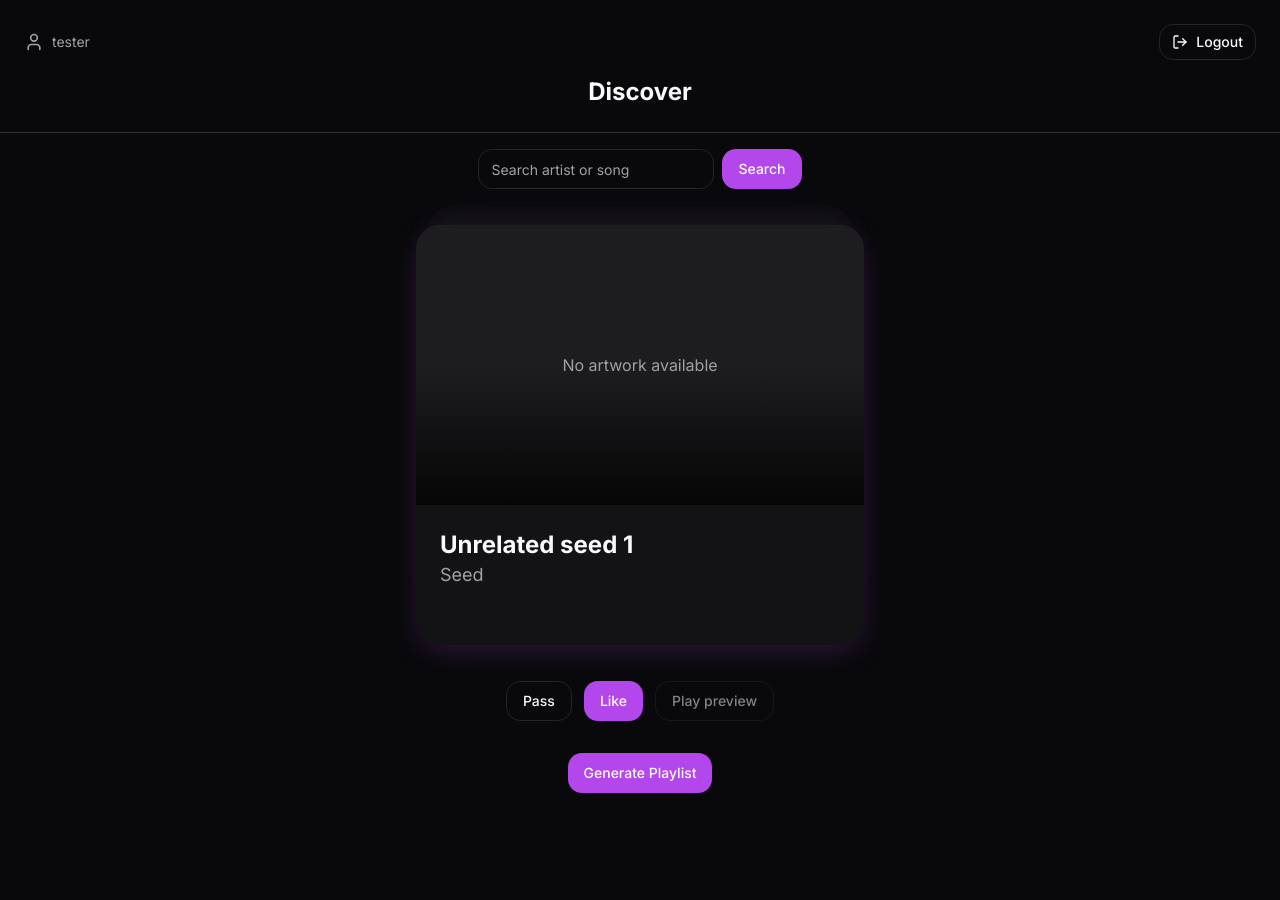
Scenario: shows catalog matches rather than fetching an unrelated general feed
Type "Matching" into the field named "Search music".
click(596, 169); type("Matching")  # box [478,149,714,189]
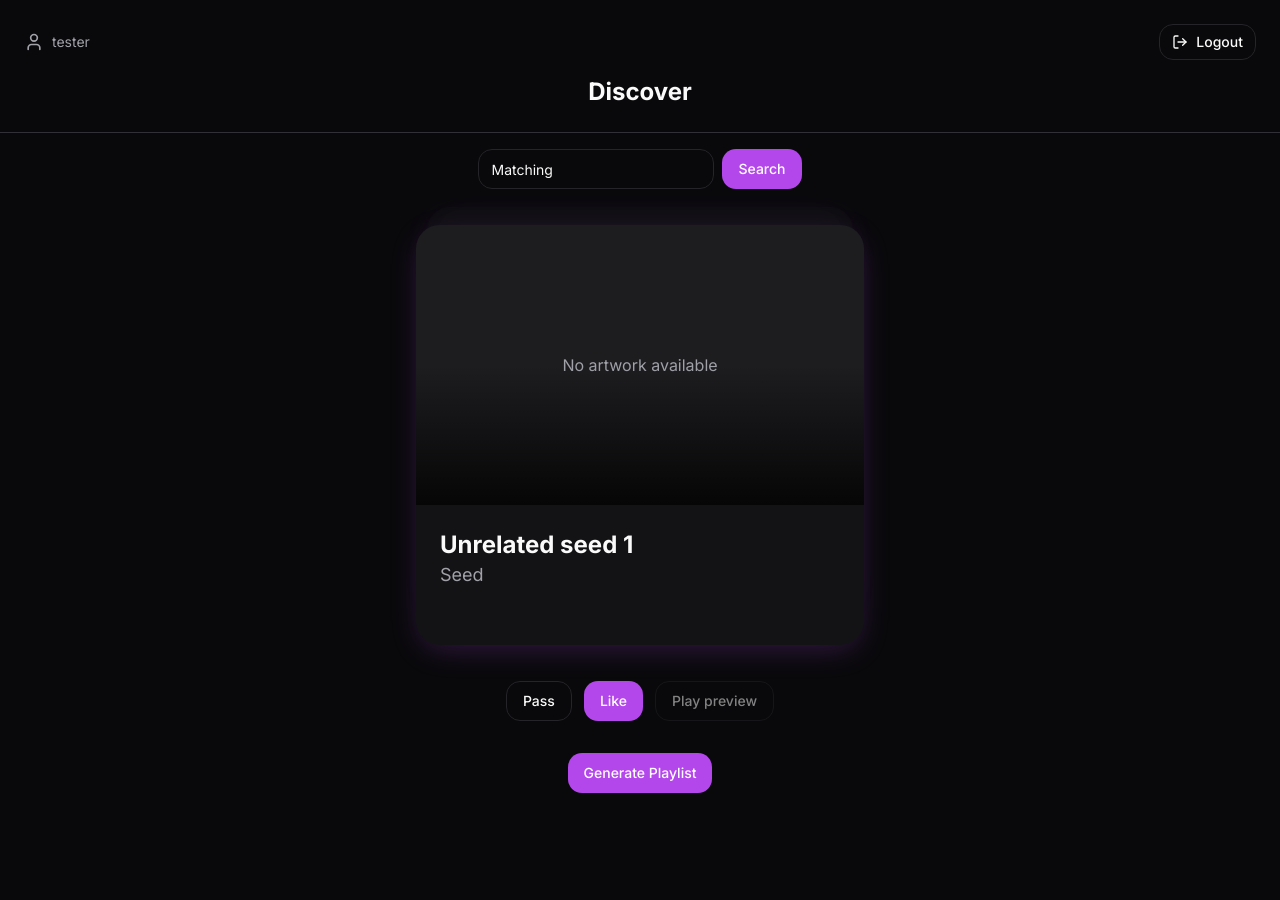
Click the button "Search".
click(762, 169)  # box [722,149,802,189]
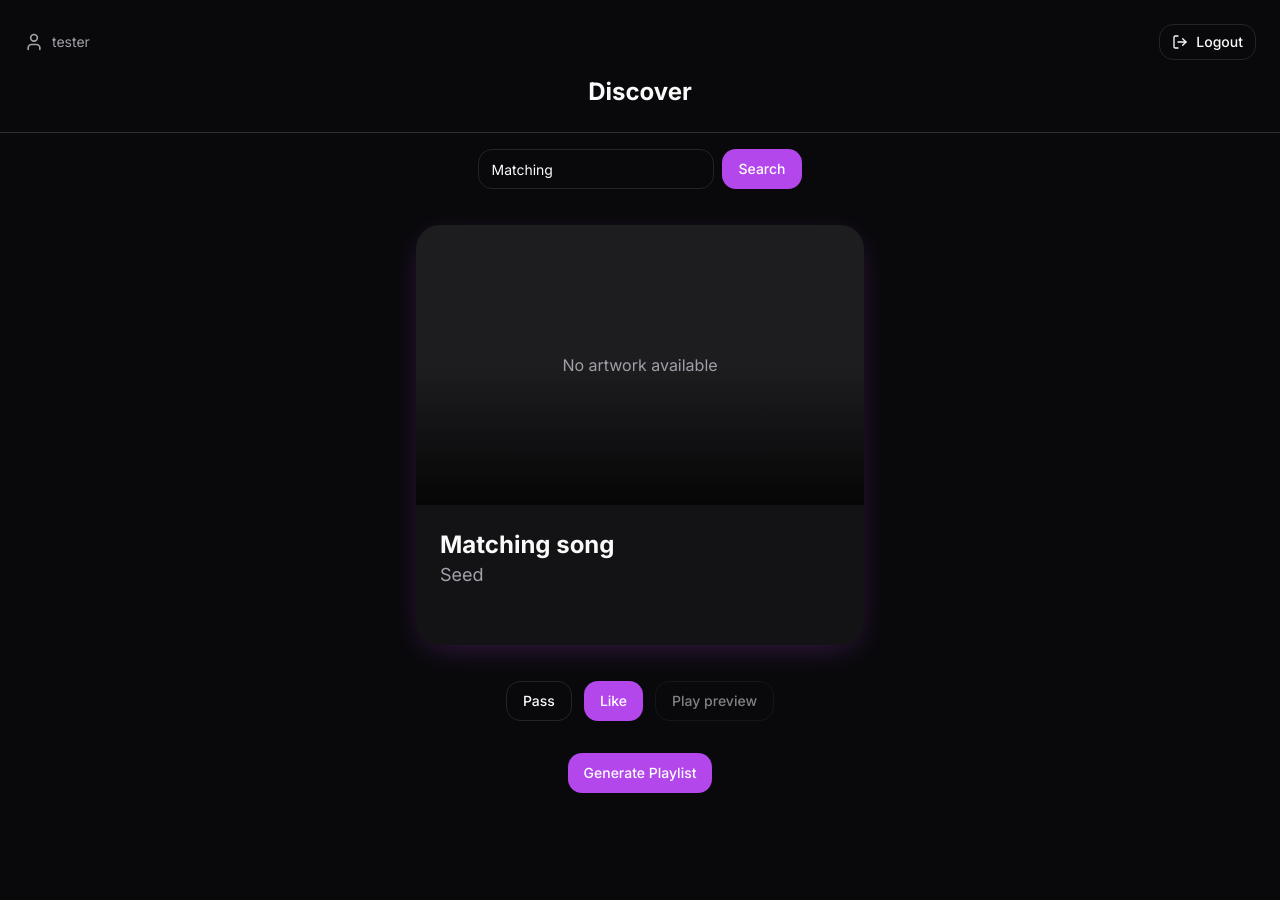
Now the heading "Matching song" is shown, box [440,530,614,559]
Now the heading "Unrelated seed 1" is gone
